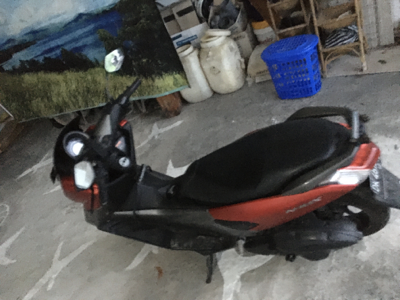moto: (48, 75, 394, 258)
